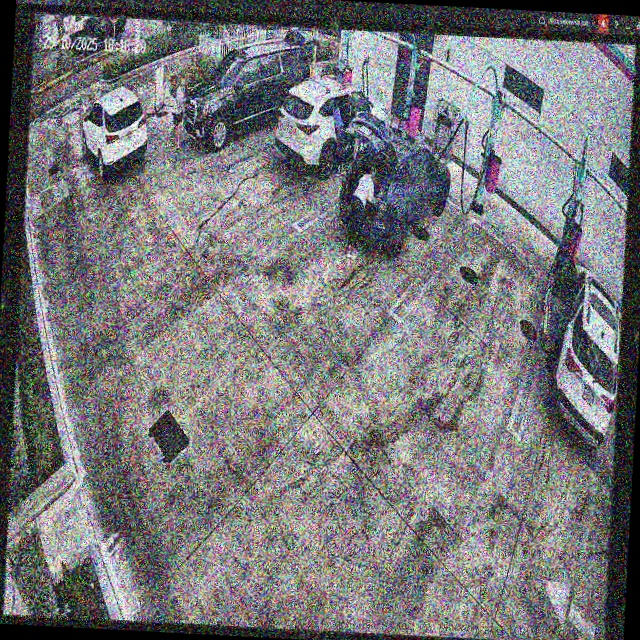Car: (336, 113, 455, 260), (274, 74, 390, 178), (80, 86, 150, 181)
